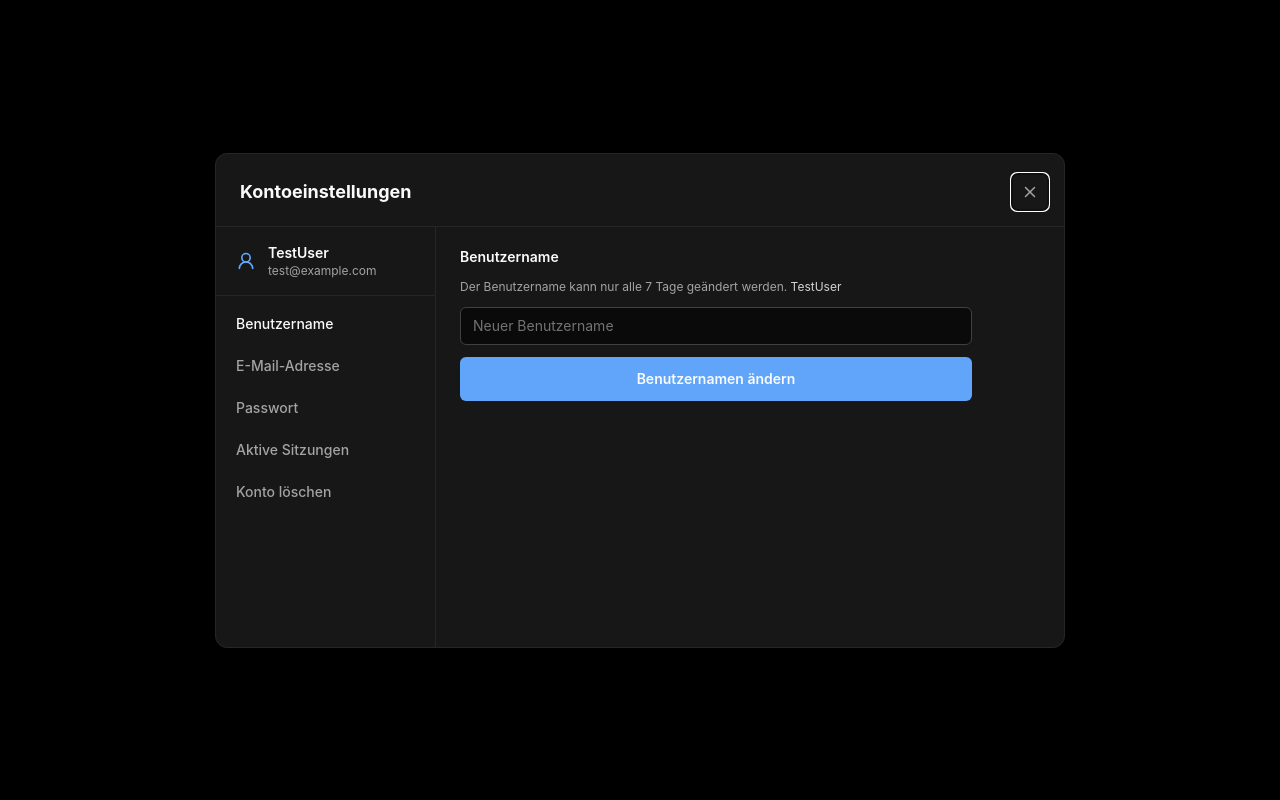
Test: AccountSettingsModal › changes the username and reloads the user
Type "neuer_name" into the field labelled "Neuer Benutzername" at (716, 326), box [460,306,972,344]
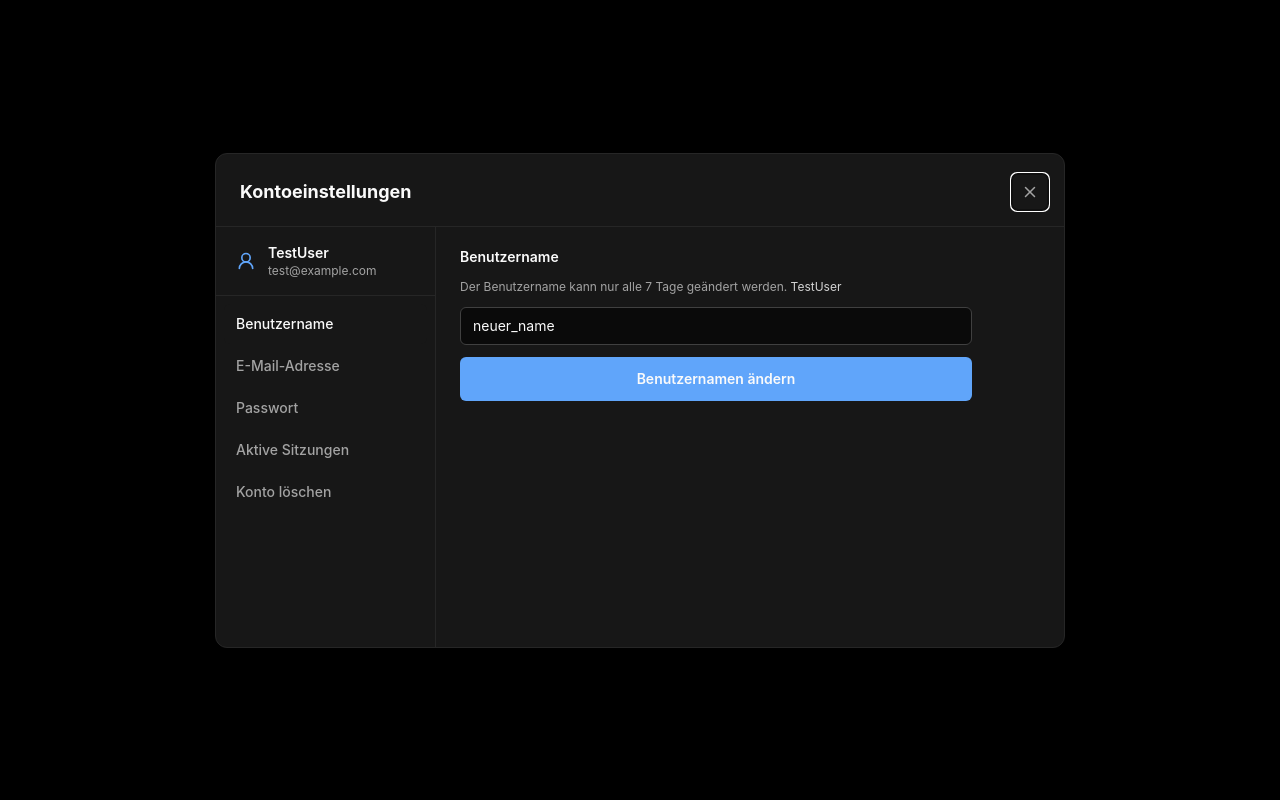
Click the button "Benutzernamen ändern" at (716, 378), box [460,356,972,400]
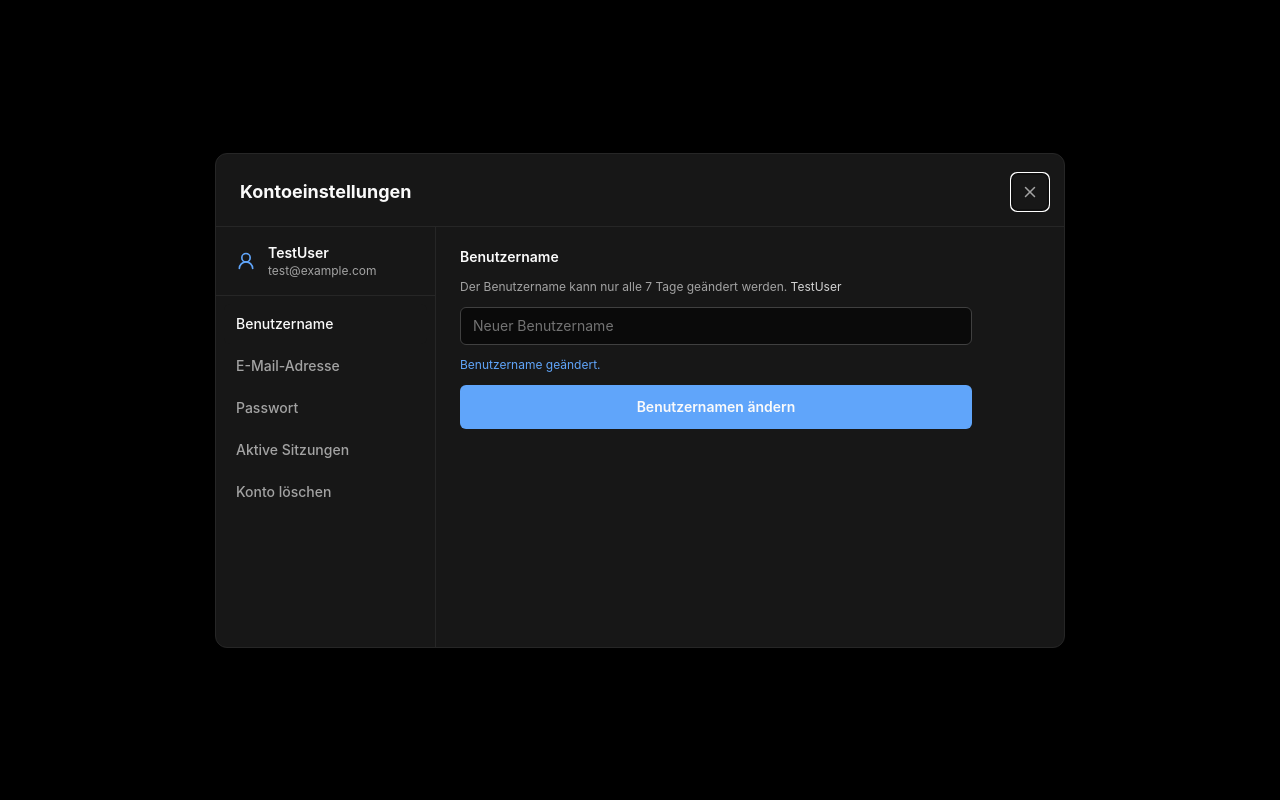
Expected: the text "Benutzername geändert." is shown, [460,356,601,372]
